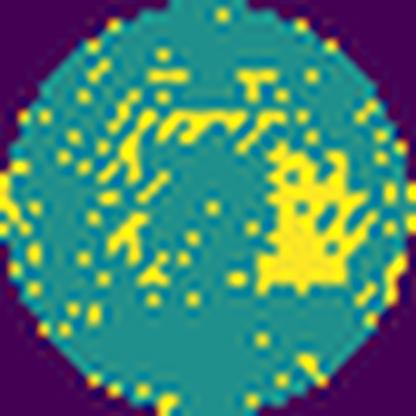Edge-Loc: (256, 138, 377, 296), (154, 110, 249, 140)
